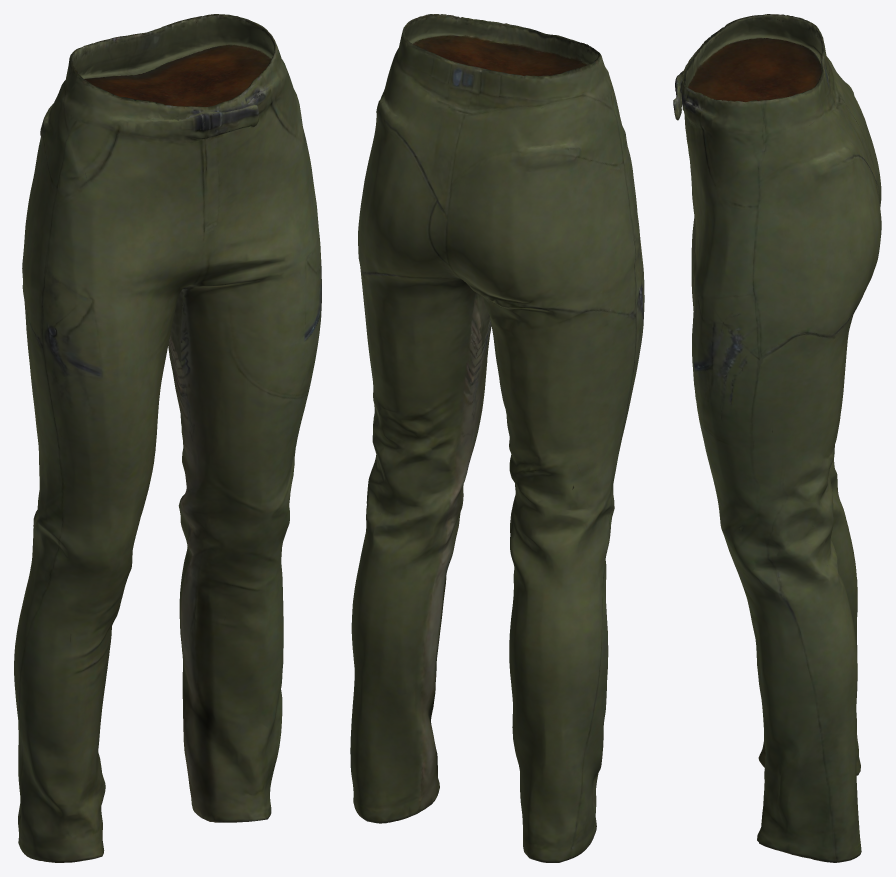
The model's file is modelo.glb.
3 renders of one model, left to right at view 1: azimuth 30°, elevation 25°; view 2: azimuth 150°, elevation 25°; view 3: azimuth 270°, elevation 25°, orthographic. The views are drawn at different scales.
Size of the model in its own units: 0.7101 by 2 by 0.4983.
Materials: 1 (1 with a texture image).
